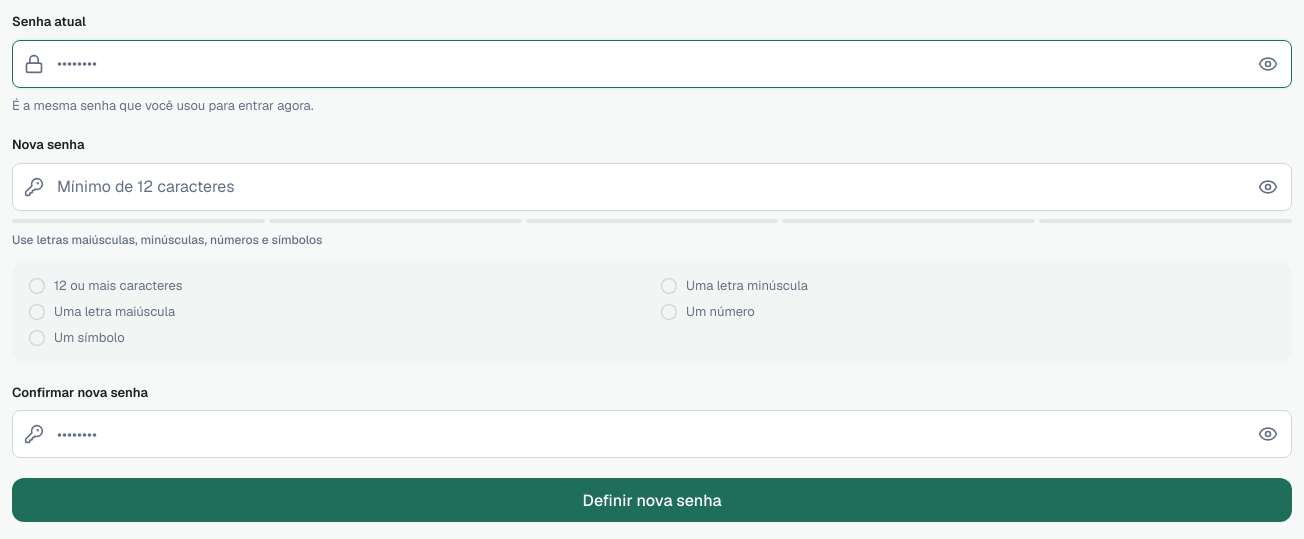
Test: ChangePasswordForm › mostra o que falta na senha enquanto ela é digitada
The width and height of the screenshot is (1304, 539).
Expected: the text "Use letras maiúsculas, minúsculas, números e símbolos" is shown, [12,232,322,248]
Type "senhalongaaaa" into the password field labelled "Nova senha". click: (652, 186)
box: [12,162,1292,210]
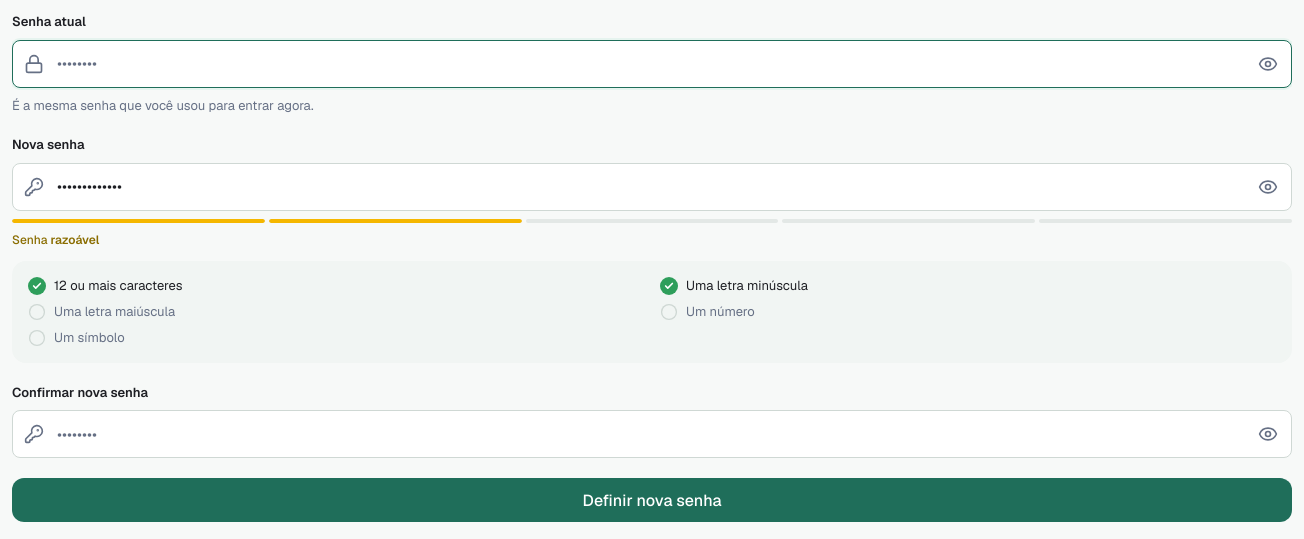
Result: the text "razoável" is shown at [50,232,99,248]
